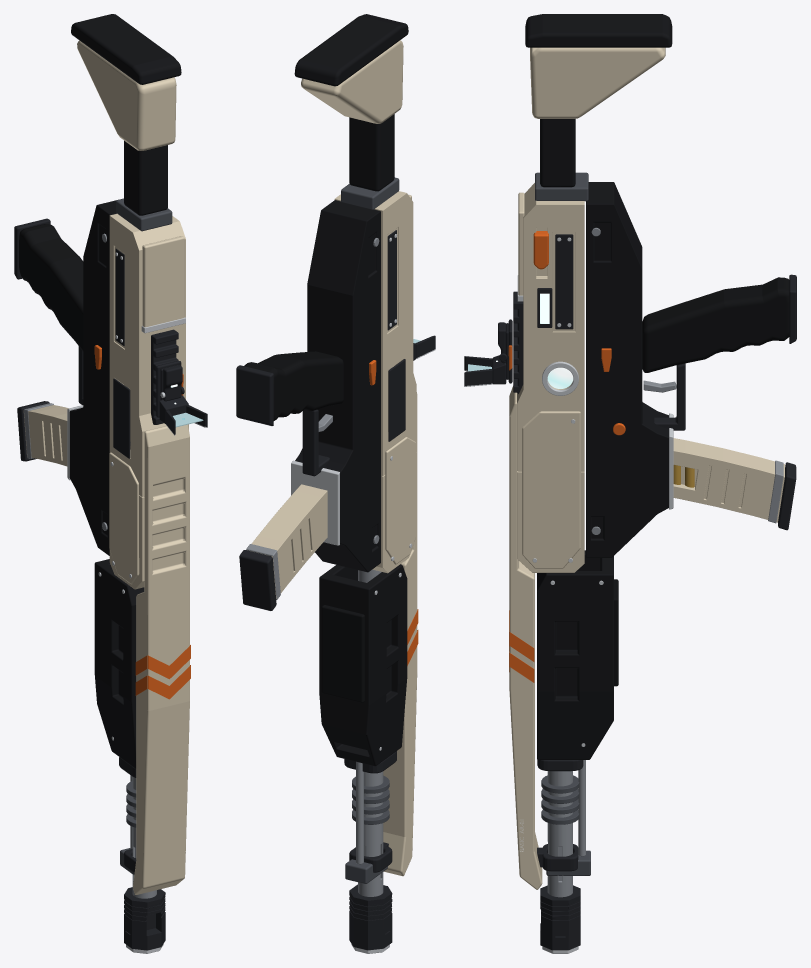
The picture shows the model from 3 angles, left to right: view 1: azimuth 30°, elevation 25°; view 2: azimuth 150°, elevation 25°; view 3: azimuth 270°, elevation 25°; orthographic projection. The views are drawn at different scales.
Parts seen in each view (by area): view 1: top_shroud, lower, upper, handguard, stock, grip, butt_pad, top_cover, armor_r, stock_spine, muzzle, magazine (+9 smaller); view 2: lower, handguard, upper, top_shroud, grip, butt_pad, stock, magazine, handguard_grip, armor_r, stock_spine, muzzle (+13 smaller); view 3: lower, handguard, upper, grip, armor_l, top_shroud, stock, magazine, butt_pad, stock_spine, muzzle, barrel (+8 smaller).
Part boxes in pixels (x1,y1,x2,y2): top_shroud: (133, 424, 189, 894); lower: (69, 198, 122, 555); upper: (109, 213, 188, 589); handguard: (94, 559, 144, 768); stock: (77, 40, 176, 150); grip: (19, 224, 83, 351); butt_pad: (71, 14, 181, 84); top_cover: (142, 236, 184, 327); armor_r: (109, 452, 139, 584); stock_spine: (124, 140, 167, 215); muzzle: (124, 887, 165, 950); magazine: (23, 405, 68, 466); lower: (295, 200, 380, 572); handguard: (319, 564, 407, 766); upper: (334, 191, 416, 573); top_shroud: (383, 392, 417, 876); grip: (244, 351, 343, 420); butt_pad: (294, 14, 408, 86); stock: (301, 40, 403, 123); magazine: (251, 484, 327, 598); handguard_grip: (321, 605, 364, 702); armor_r: (385, 437, 415, 564); stock_spine: (349, 114, 394, 191); muzzle: (349, 884, 392, 950); lower: (586, 182, 668, 557); handguard: (537, 550, 613, 759); upper: (517, 183, 584, 572); grip: (642, 277, 789, 372); armor_l: (522, 411, 580, 568); top_shroud: (509, 386, 542, 889); stock: (530, 47, 665, 118); magazine: (673, 438, 784, 522); butt_pad: (525, 14, 672, 47); stock_spine: (540, 119, 575, 187); muzzle: (540, 885, 580, 950); barrel: (547, 771, 572, 897).
Bounding box in the file's own units: 0.0522 × 0.7973 × 0.2604.
